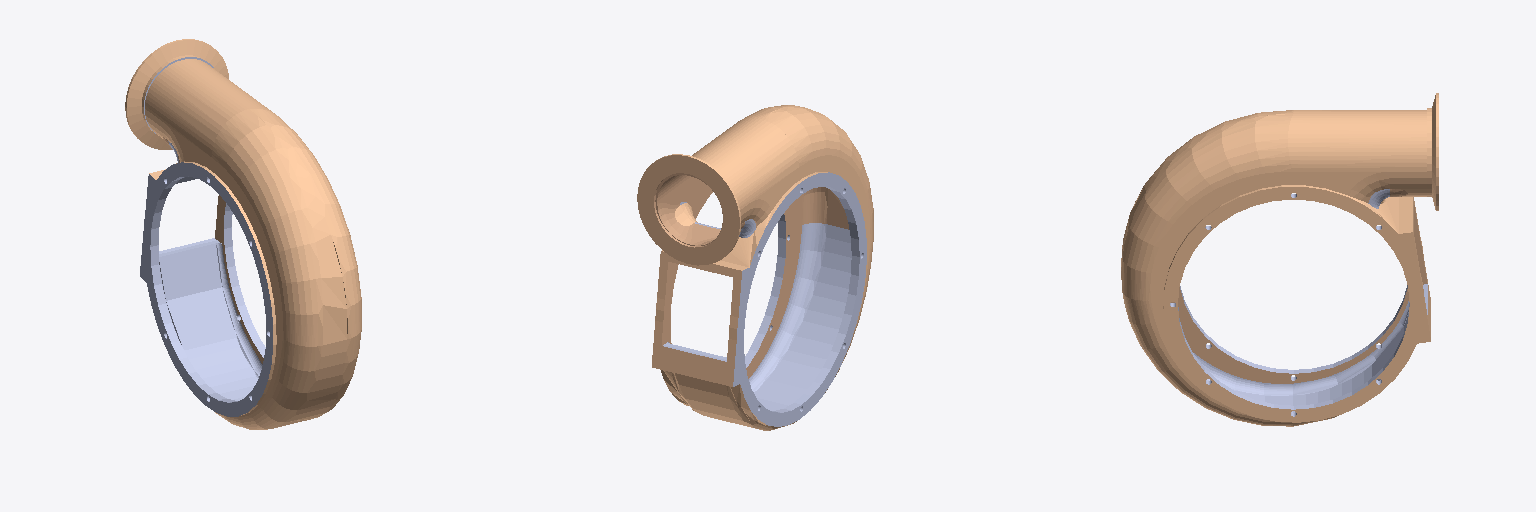
3 renders of one model, left to right at view 1: azimuth 30°, elevation 25°; view 2: azimuth 150°, elevation 25°; view 3: azimuth 270°, elevation 25°, orthographic.
Visible parts, largest first — view 1: Part7.SLDPRT-2, Part7.SLDPRT-1, Part7.SLDPRT; view 2: Part7.SLDPRT-2, Part7.SLDPRT-1, Part7.SLDPRT; view 3: Part7.SLDPRT-2, Part7.SLDPRT-1, Part7.SLDPRT.
Part boxes in pixels (x1,y1,x2,y2): Part7.SLDPRT-2: (125,39,361,429); Part7.SLDPRT-1: (140,57,272,416); Part7.SLDPRT: (163,137,263,363); Part7.SLDPRT-2: (637,105,873,430); Part7.SLDPRT-1: (663,172,866,426); Part7.SLDPRT: (654,173,848,378); Part7.SLDPRT-2: (1121,93,1438,426); Part7.SLDPRT-1: (1170,189,1427,416); Part7.SLDPRT: (1171,189,1427,383).
Bounding box in the file's own units: 104 × 304 × 278.